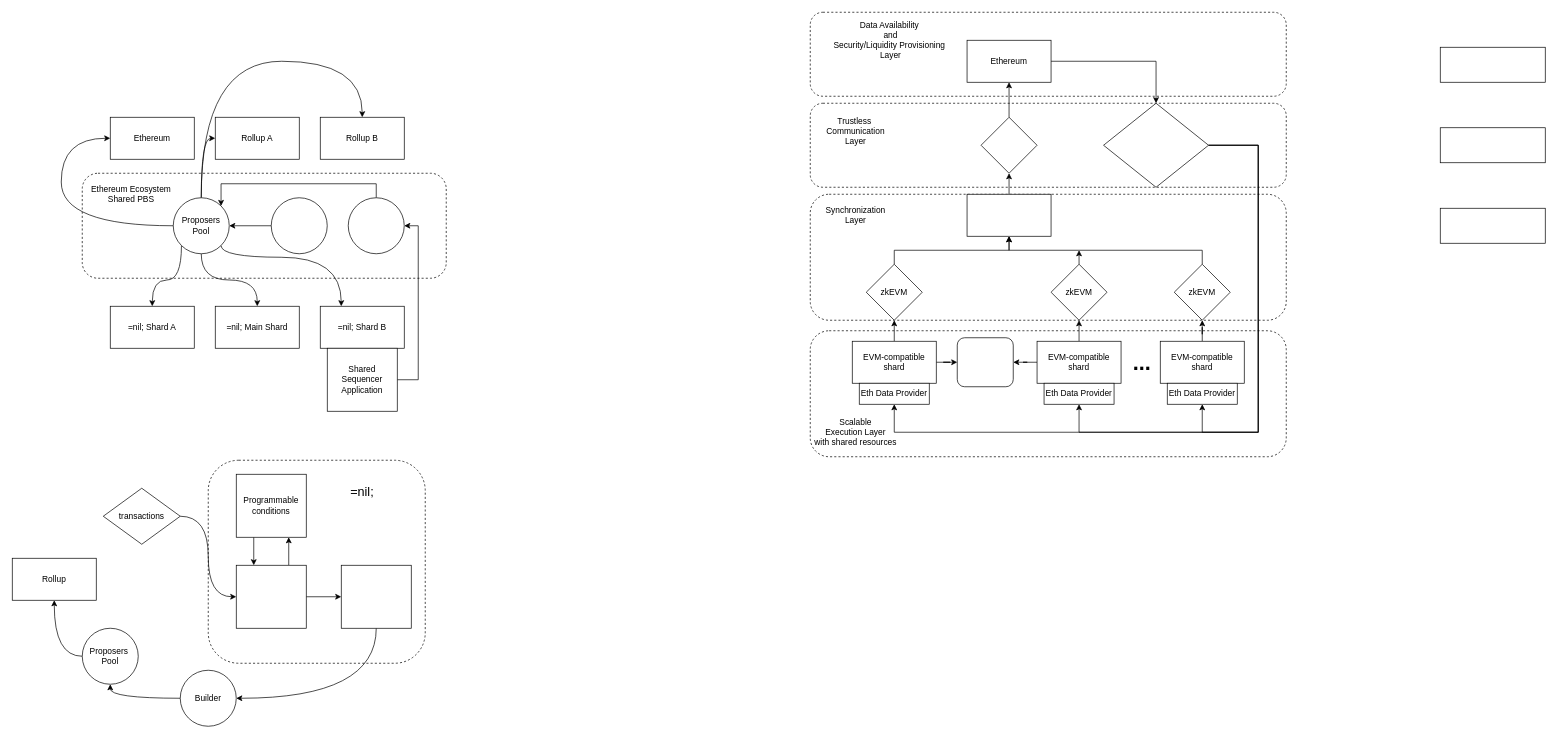
This 1558x739 diagram has some shape labels left out. Each missing label, with the centre of its shape:
"Builders that use Shared Sequencer" goes at [376,225].
"Cross-shard message passing protocol" goes at [985,362].
"Individual Builders" goes at [299,225].
"Main Shard" goes at [1008,215].
"Shared Sequencer: Batch Finalization" goes at [376,596].
"Shared Sequencer: Batch Formation" goes at [271,596].
"zkBridge" goes at [1156,145].
"zkVM" goes at [1008,145].
